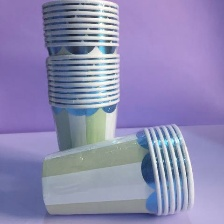paper_cup: (33, 118, 200, 219), (38, 0, 127, 169)
